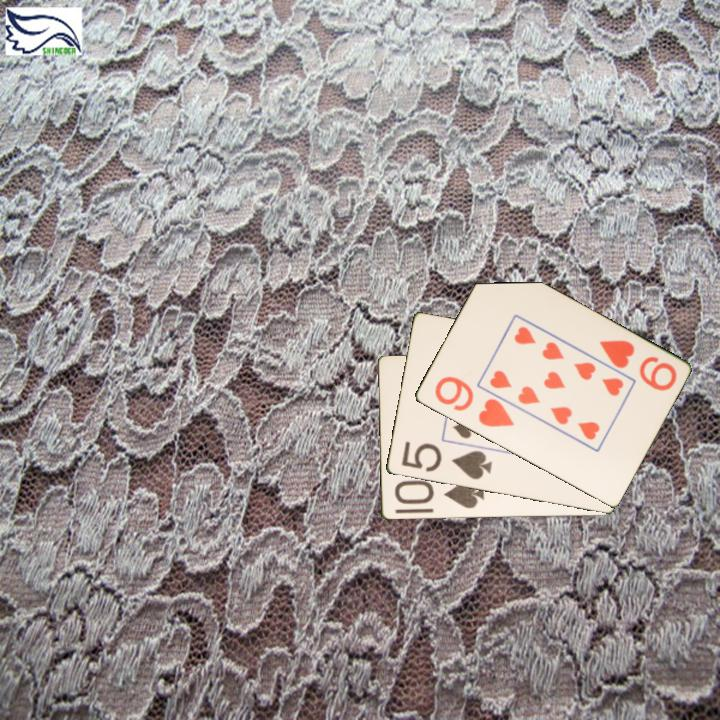10s: (390, 477, 487, 512)
5s: (398, 438, 494, 483)
9h: (595, 336, 680, 394), (431, 373, 517, 430)
